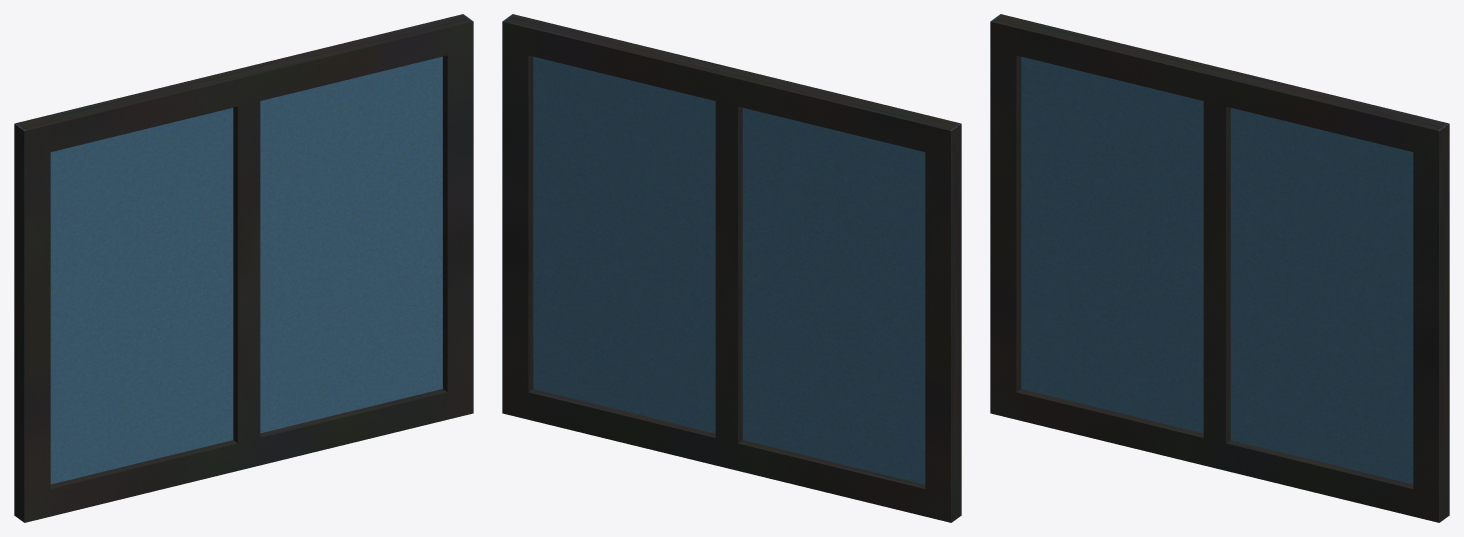
The model's file is window.obj.
3 renders of one model, left to right at view 1: azimuth 30°, elevation 25°; view 2: azimuth 150°, elevation 25°; view 3: azimuth 330°, elevation 25°, orthographic.
Bounding box in the file's own units: 3 × 2.5 × 0.12.
